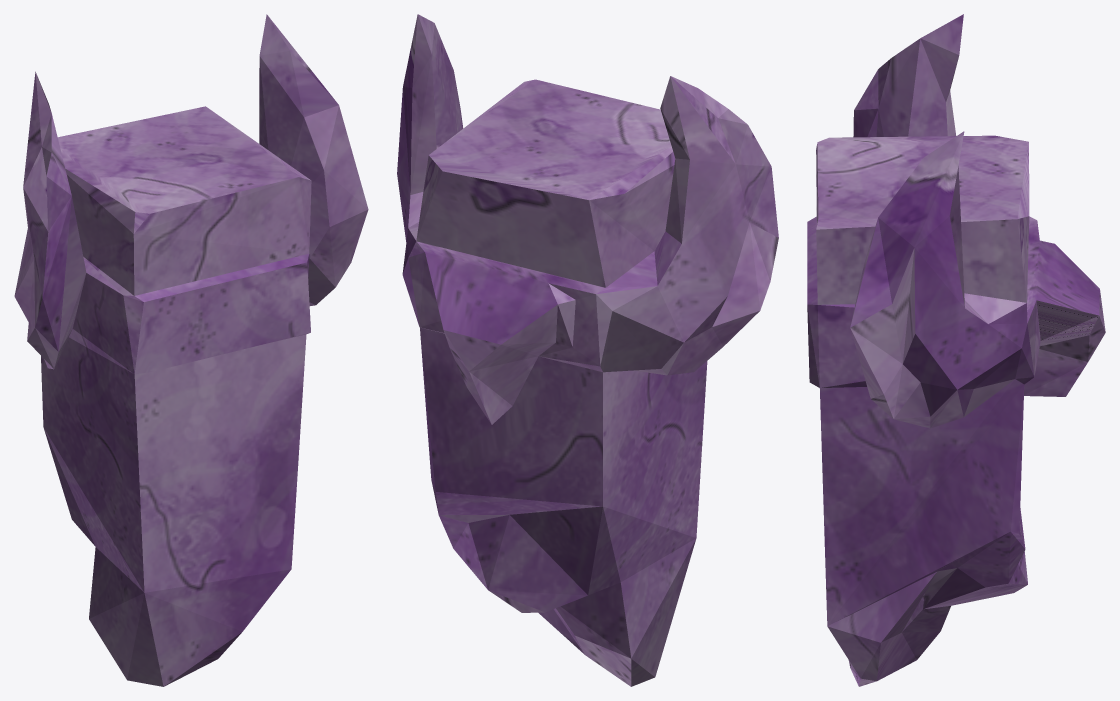
File: s0_Str_Ruins_01__1__01.glb
3 views of the same model, side by side, from view 1: azimuth 30°, elevation 25°; view 2: azimuth 150°, elevation 25°; view 3: azimuth 270°, elevation 25° (orthographic). The views are drawn at different scales.
Parts seen in each view (by area): view 1: node_Str_Ruins_01 (1); view 2: node_Str_Ruins_01 (1); view 3: node_Str_Ruins_01 (1).
Boxes of the visible parts, left/top/right/bottom form: node_Str_Ruins_01 (1): left=14, top=14, right=368, bottom=686; node_Str_Ruins_01 (1): left=397, top=14, right=778, bottom=686; node_Str_Ruins_01 (1): left=807, top=14, right=1105, bottom=686.
Size of what is drawn, in the model's own units: 2.13 by 3.73 by 1.63.
Materials: 1 (1 with a texture image).
